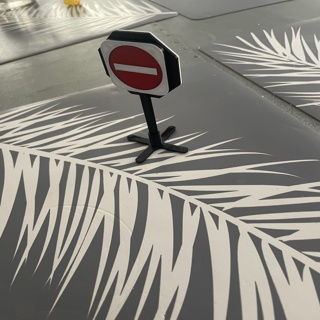sign_noentry: (97, 37, 169, 95)
